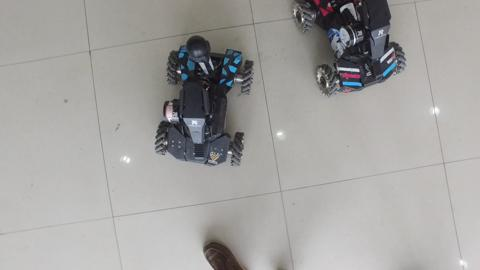chariot: (147, 32, 262, 174), (283, 1, 415, 106)
